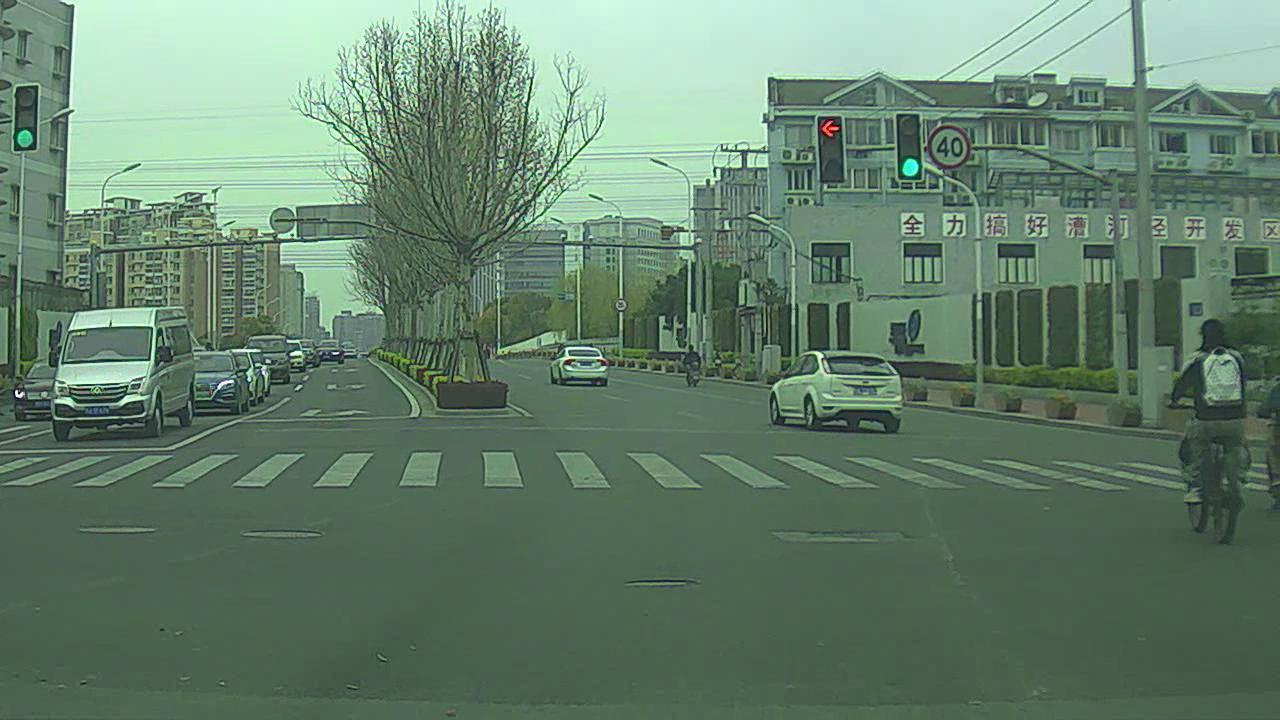traffic_light: (810, 113, 850, 184), (894, 112, 923, 185), (14, 87, 39, 151)
